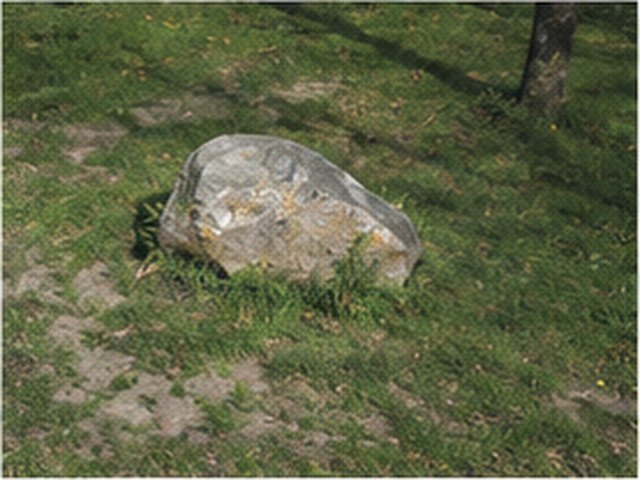tower: (159, 134, 421, 282)
